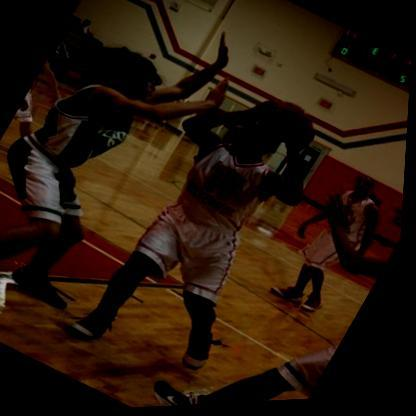basketball: (246, 90, 330, 160)
